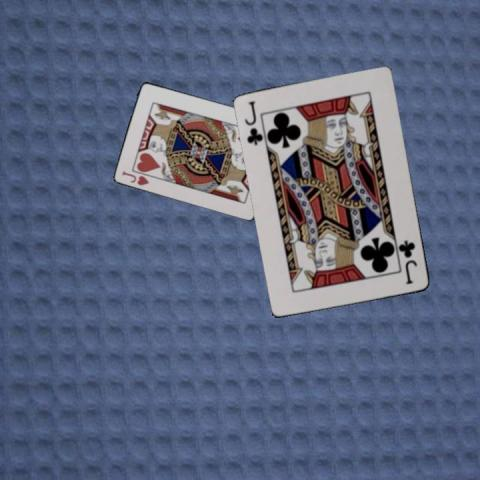Jc: (241, 98, 265, 147), (398, 237, 420, 286)
Jh: (119, 167, 151, 187)
